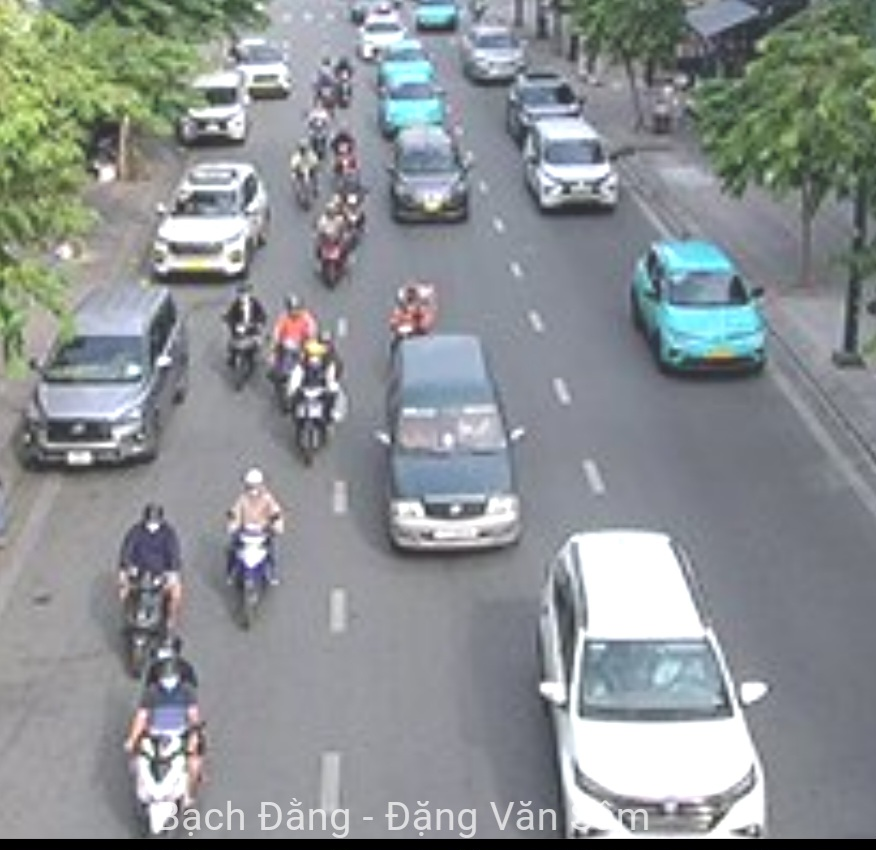car: (530, 532, 768, 836), (22, 284, 190, 472), (380, 335, 523, 549), (630, 242, 773, 377), (154, 161, 271, 284), (524, 121, 619, 215), (392, 131, 468, 228), (180, 75, 247, 149), (375, 62, 446, 128), (457, 26, 527, 84), (512, 76, 585, 123)
